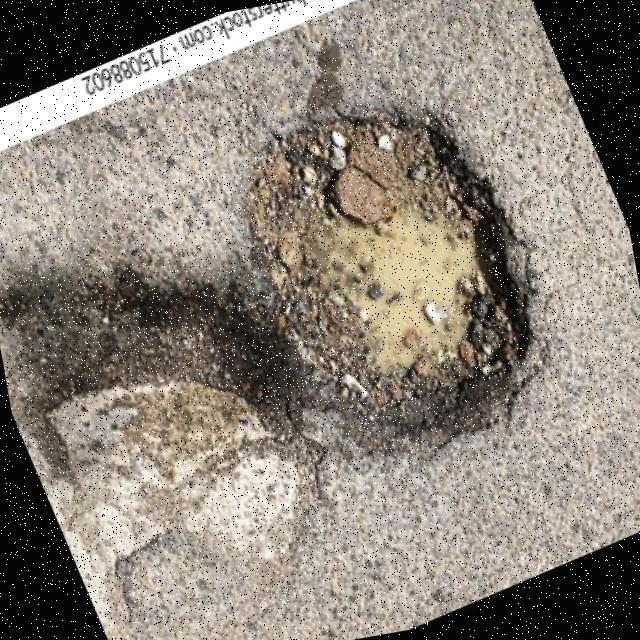Pothole: (256, 111, 534, 431)
